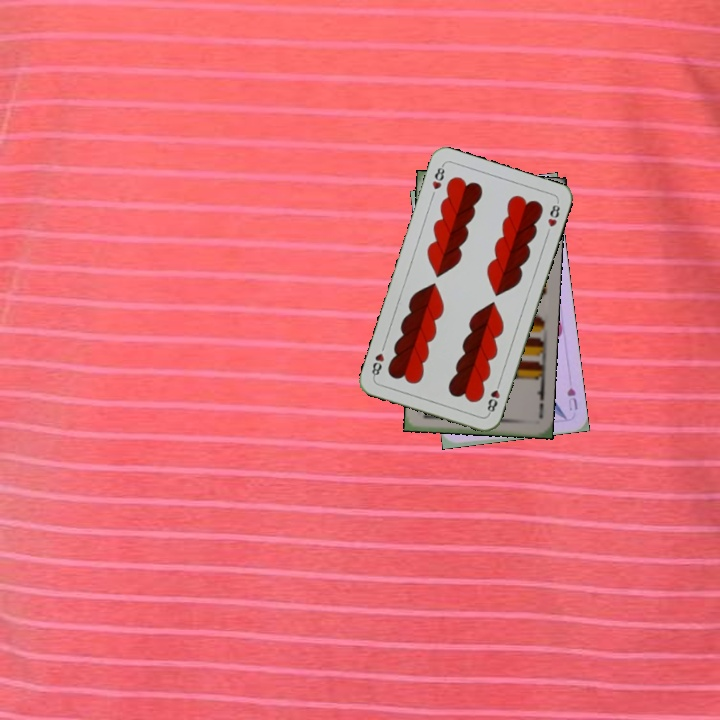E7: (533, 381, 547, 421)
H8: (483, 377, 503, 417), (428, 161, 447, 192)
HU: (563, 384, 580, 413)
